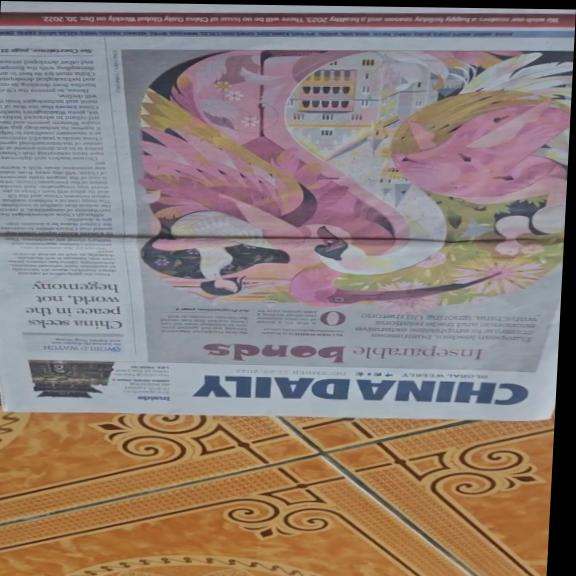Kertas: (0, 11, 570, 422)
